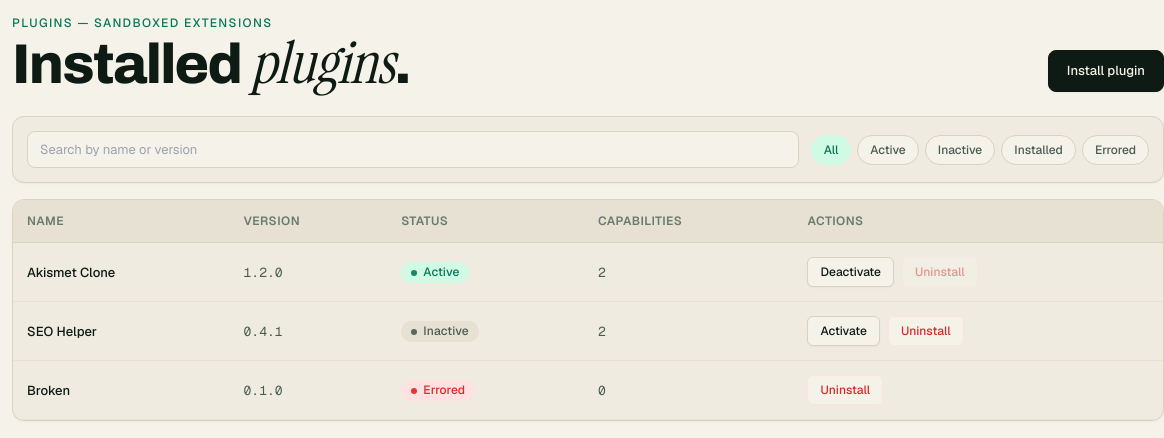
Scenario: PluginListClient › searches plugins by name
Type "seo" into the search field named "search plugins" at x=413, y=150, box [27,131,799,168]
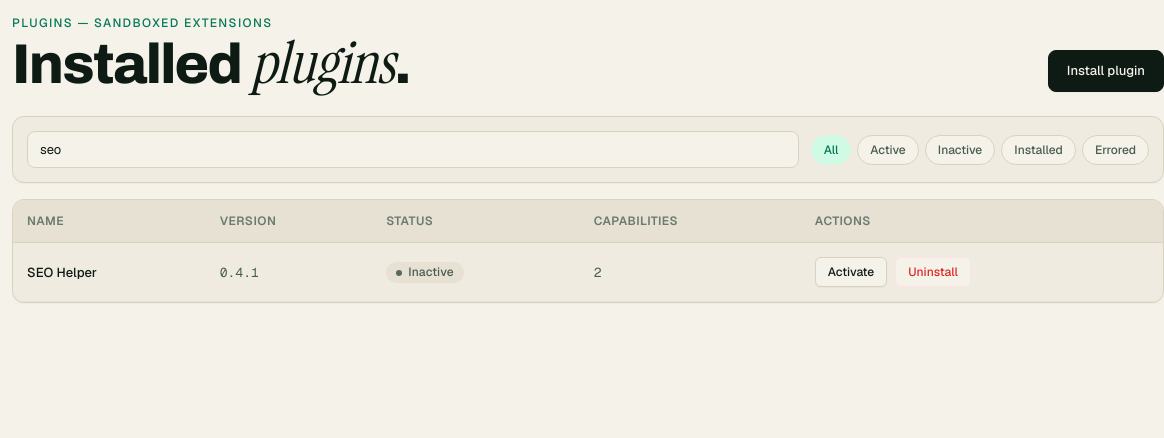
Check: the link "SEO Helper" is shown, box [27,264,97,281]
Check: the link "Akismet Clone" is gone
